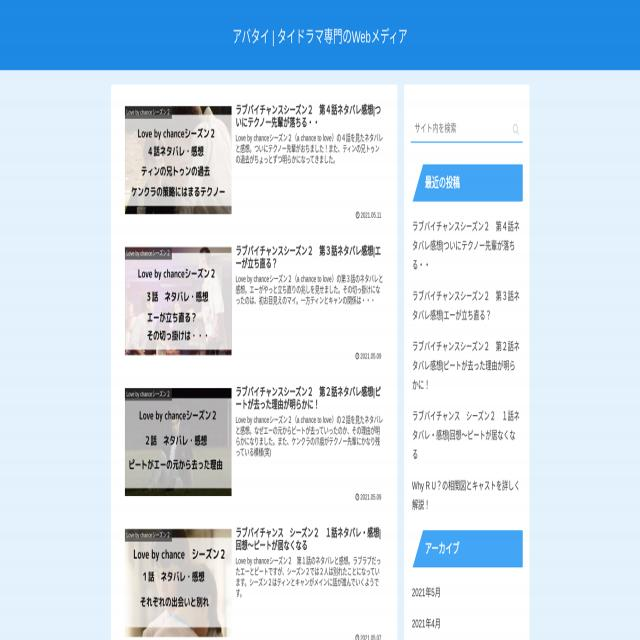button: (125, 526, 232, 640), (125, 106, 231, 214), (125, 247, 231, 355), (125, 388, 231, 496), (510, 122, 522, 136)
field: (410, 116, 522, 142)
